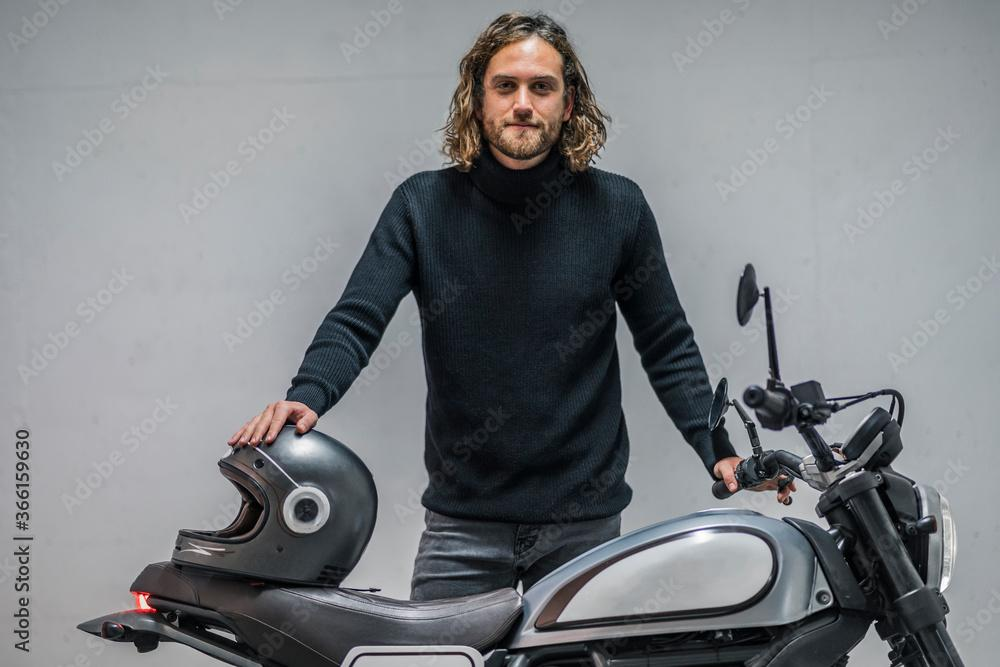helmet: (170, 423, 379, 590)
nohelmet: (445, 10, 607, 172)
